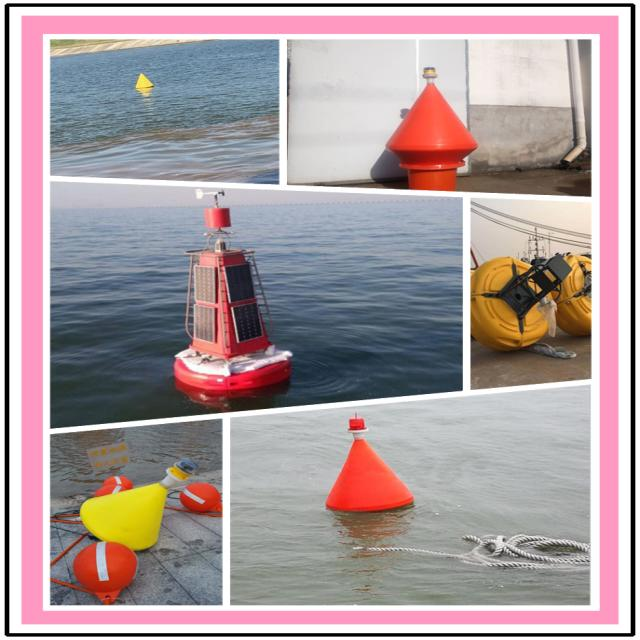buoy: (163, 187, 300, 396), (388, 62, 488, 191), (83, 455, 197, 549), (318, 414, 408, 516), (130, 72, 160, 96)
